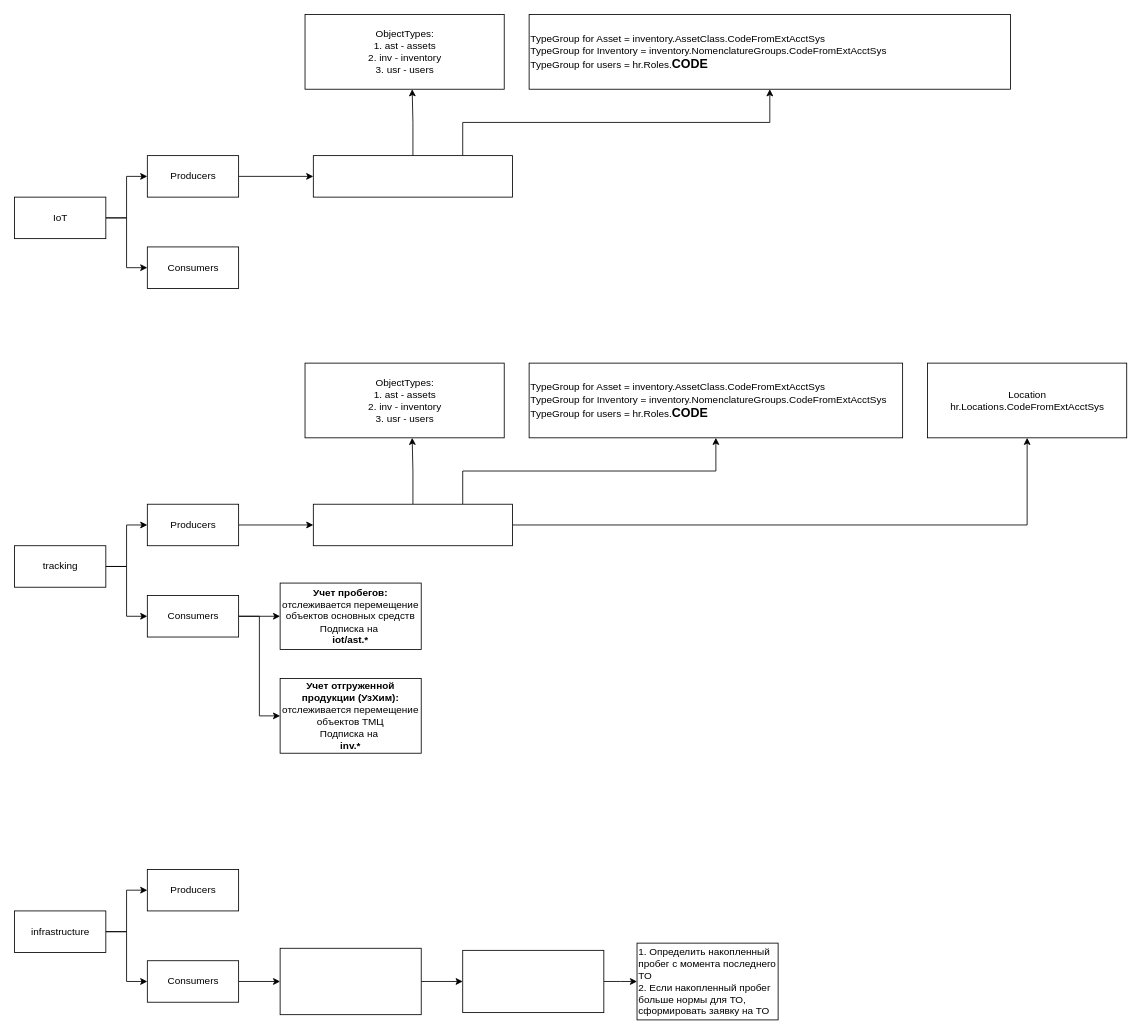
Image size: 1141x1035. Some labels were removed from this diagram. Here are the shapes that lost their labels. From the top down, the centre of each, then its label:
point (412, 176): ObjectType.TypeGroup
point (412, 524): ObjectType.TypeGroup.Location
point (350, 981): Учет пробегов: tracking/ast.*.*
point (533, 981): 1. Объект ОС 2. Пройденное расстояние от последнего момента 3. Текущая локация
